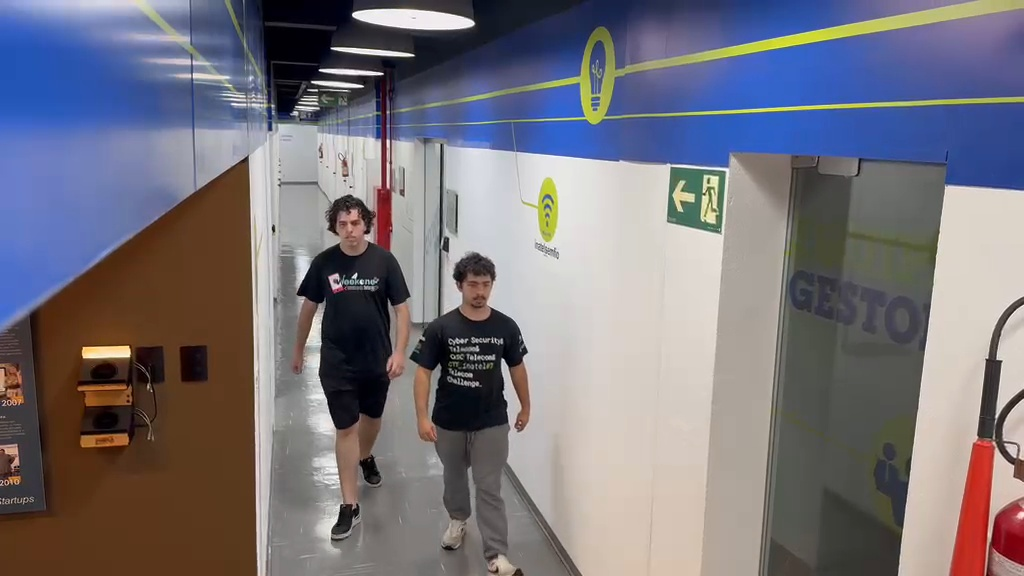person: (291, 194, 412, 540), (410, 252, 531, 572)
